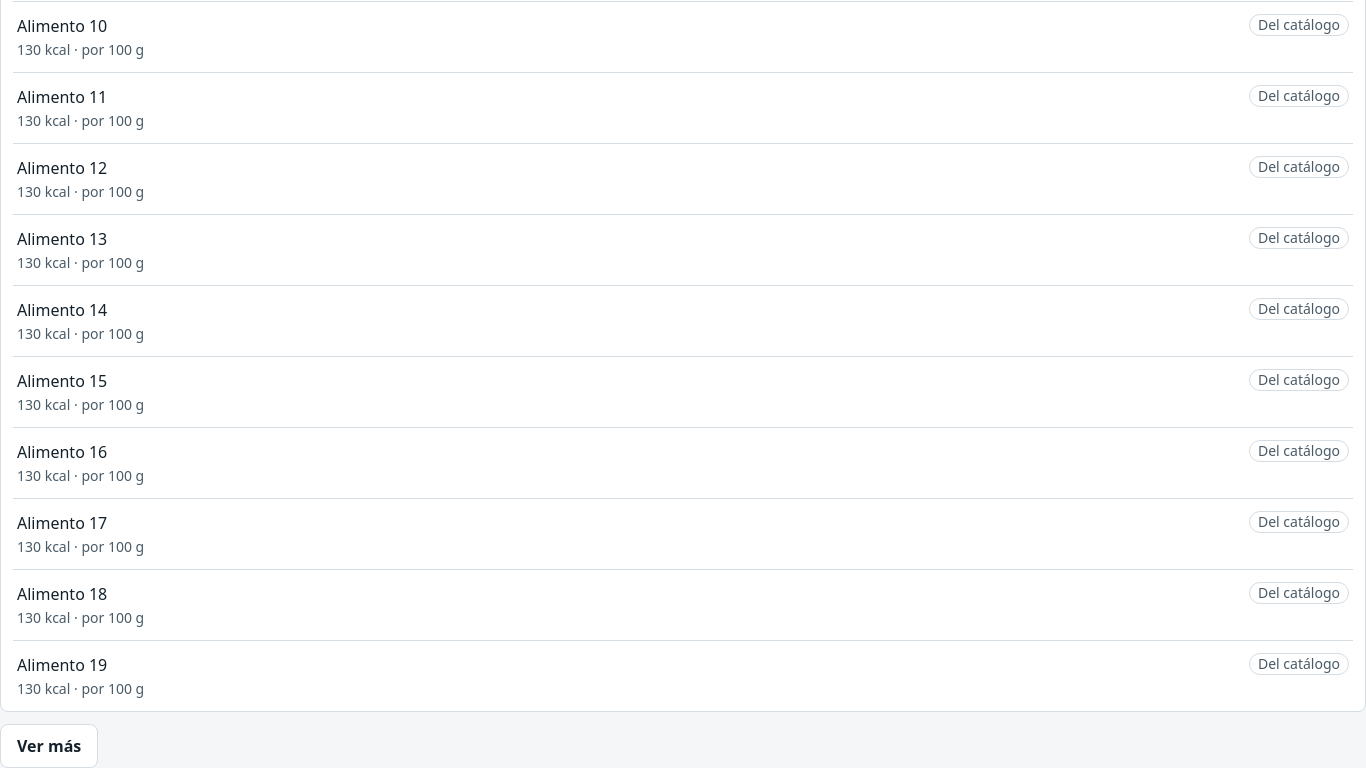
Test case: FoodSearchPage: estados (FR-009, FR-010) › "Ver más" agrega la siguiente tanda sin perder la anterior
(page scrolled)
Click the button "Ver más": (49, 746) [0, 724, 98, 767]
(page scrolled)
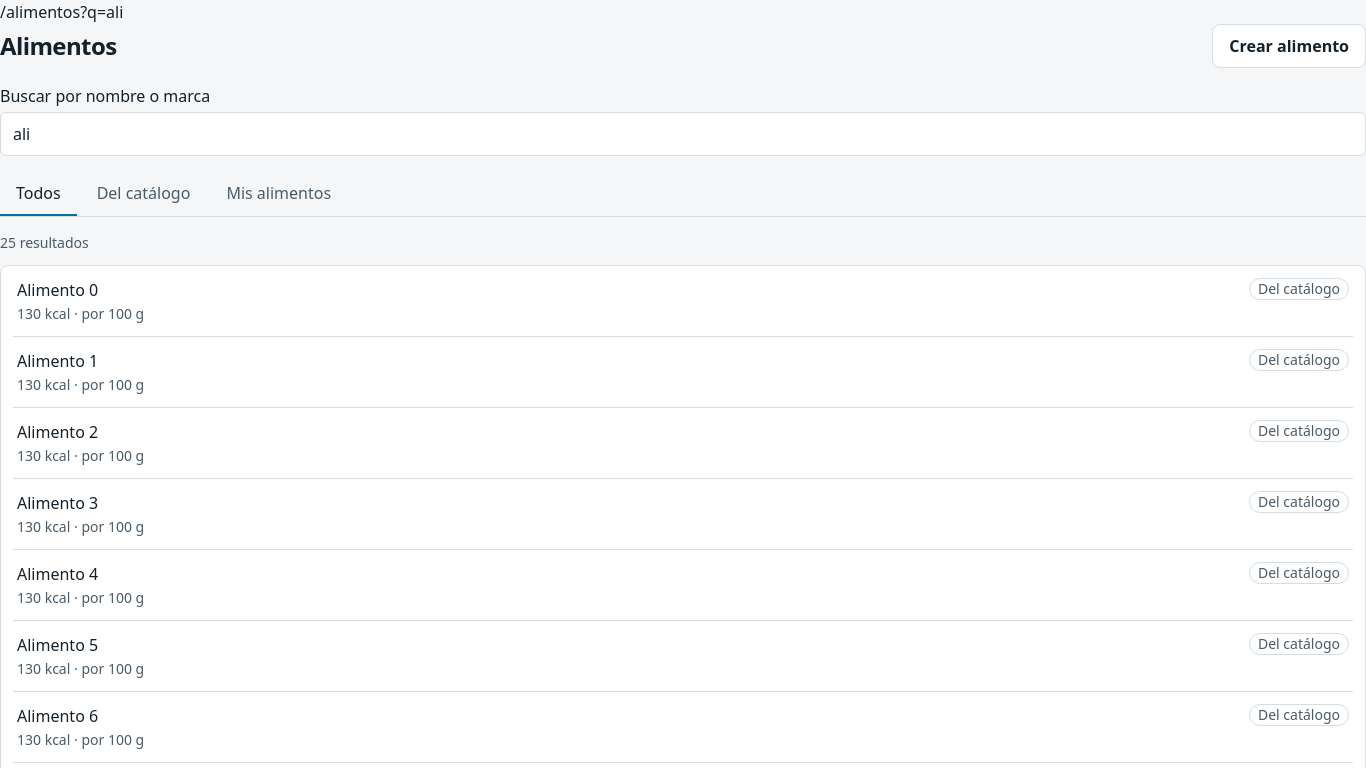
Expected: the text "Alimento 0" is shown, [17, 278, 98, 302]
Now the button "Ver más" is gone
